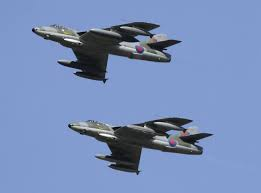fighter: (31, 17, 185, 85), (65, 111, 216, 176)
